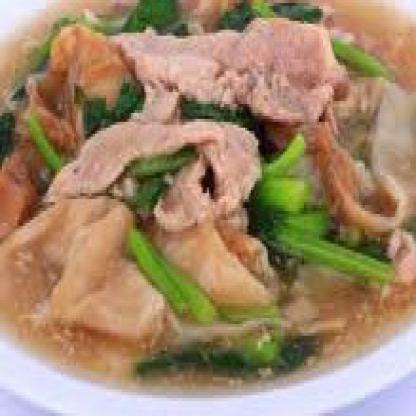Laadna: (2, 9, 414, 413)
